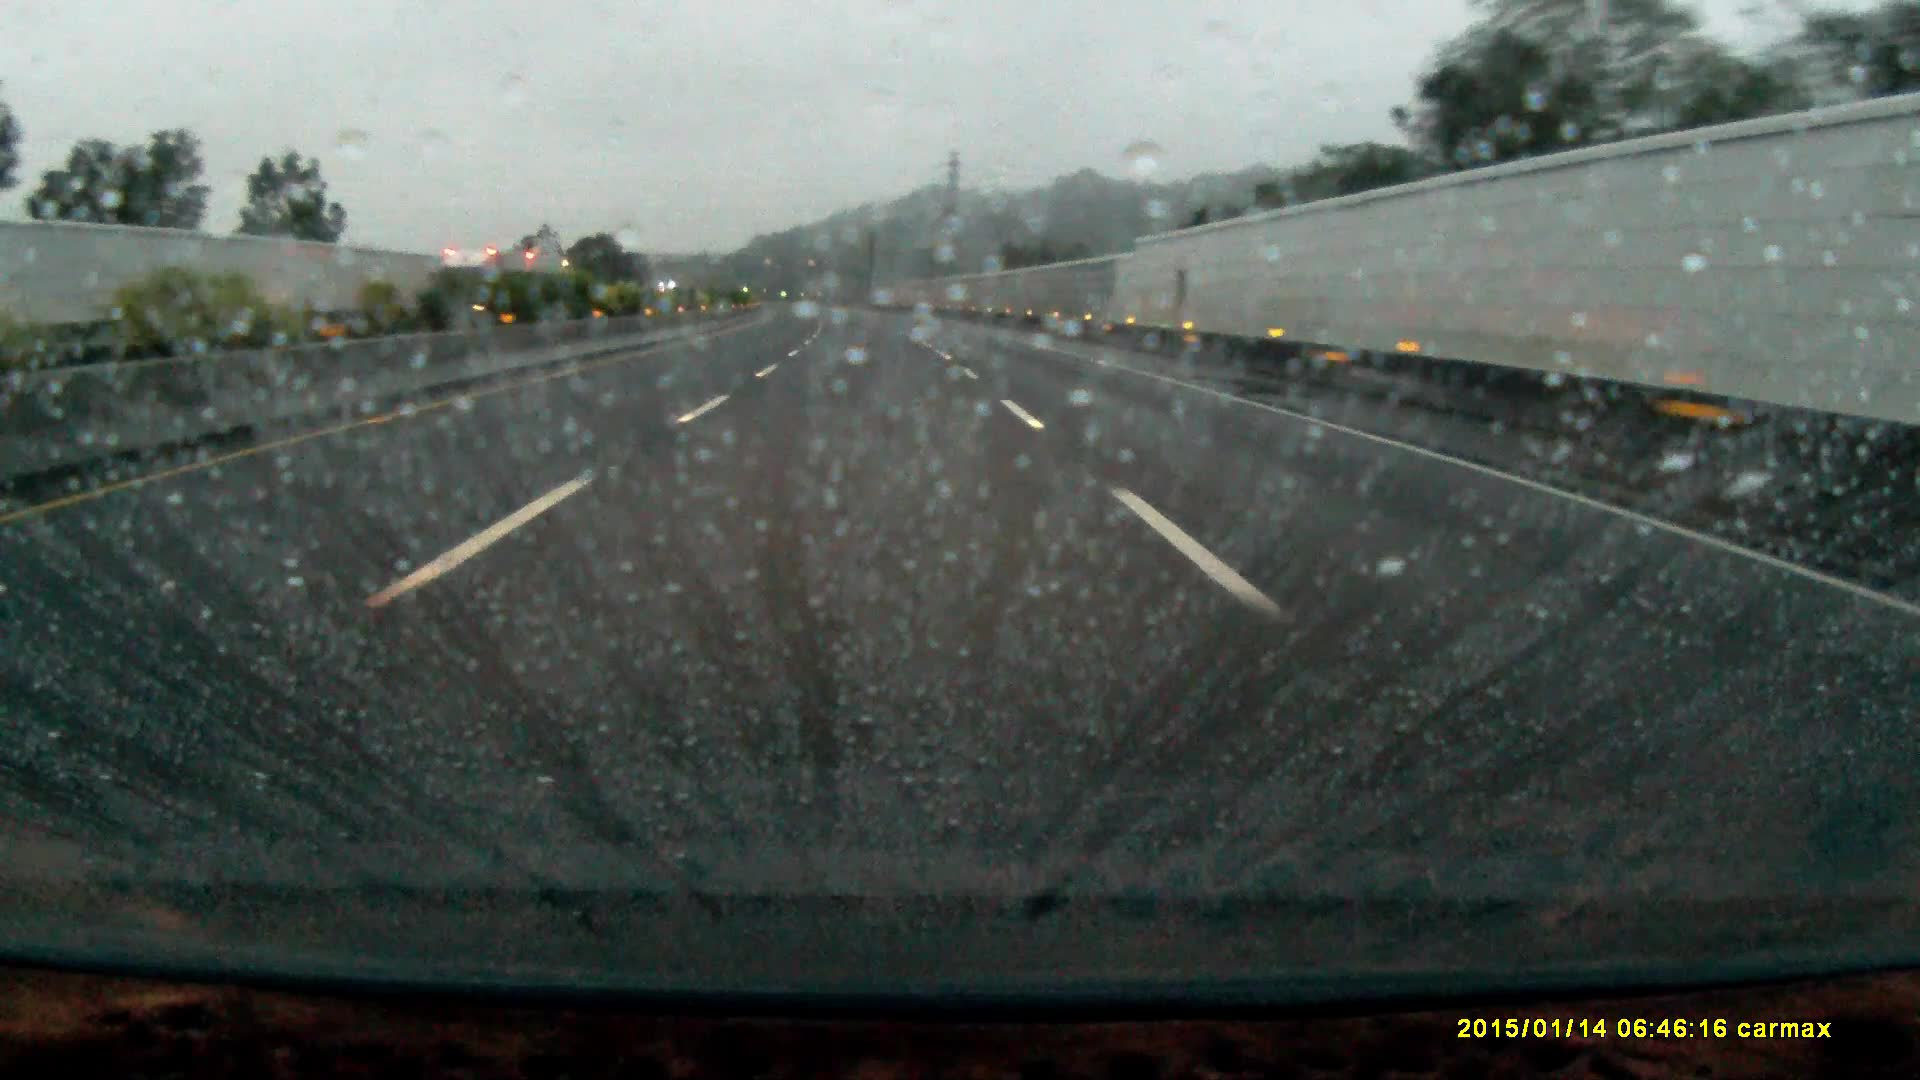vehicle: (433, 243, 556, 316)
